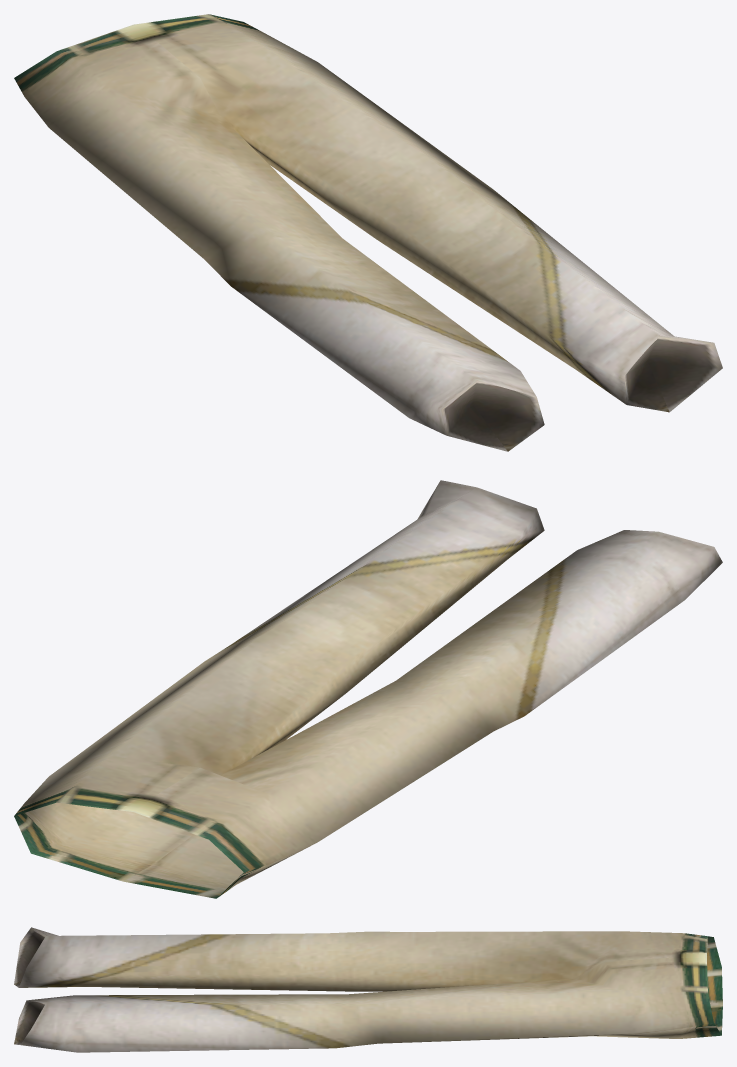
Rendered from m_Legs2.glb.
The picture shows the model from 3 angles, top to bottom: view 1: azimuth 30°, elevation 25°; view 2: azimuth 150°, elevation 25°; view 3: azimuth 270°, elevation 25°; orthographic projection. The views are drawn at different scales.
Parts seen in each view (by area): view 1: Legs2; view 2: Legs2; view 3: Legs2.
Boxes of the visible parts, x1,y1,x2,y2 form: Legs2: [14, 14, 722, 451]; Legs2: [14, 480, 722, 898]; Legs2: [14, 927, 722, 1052].
Bounding box in the file's own units: 20.98 × 5.31 × 57.67.
1 material, 1 textured.
